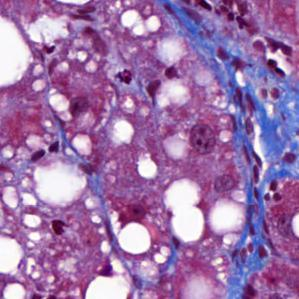inflammation: (258, 33, 295, 80), (110, 65, 137, 89)
